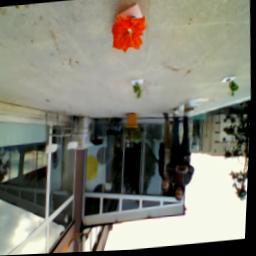herb: (229, 82, 240, 100), (134, 84, 144, 101)
wild: (110, 12, 150, 56)
